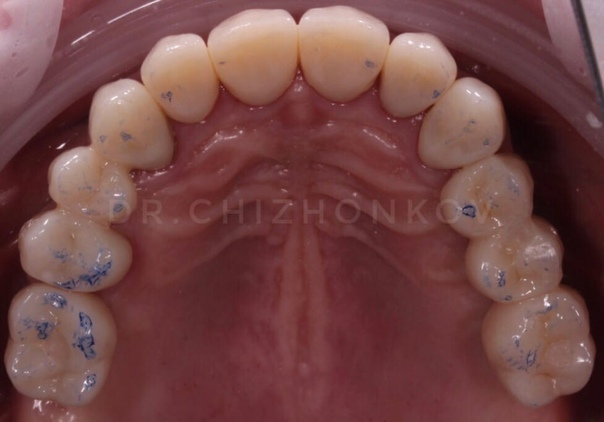UL1BC_decay: (442, 167, 532, 232)
UL1M_decay: (482, 297, 595, 400)
UL2BC_decay: (477, 230, 562, 296)
ULCI_healthy: (301, 8, 384, 100)
ULC_decay: (423, 84, 506, 166)
ULLI_healthy: (382, 35, 451, 118)
UR1BC_decay: (49, 150, 140, 221)
UR1M_decay: (10, 287, 114, 403)
UR2BC_decay: (17, 212, 133, 285)
URCI_healthy: (209, 9, 299, 100)
URC_decay: (93, 81, 175, 168)
URLI_decay: (143, 39, 218, 121)
